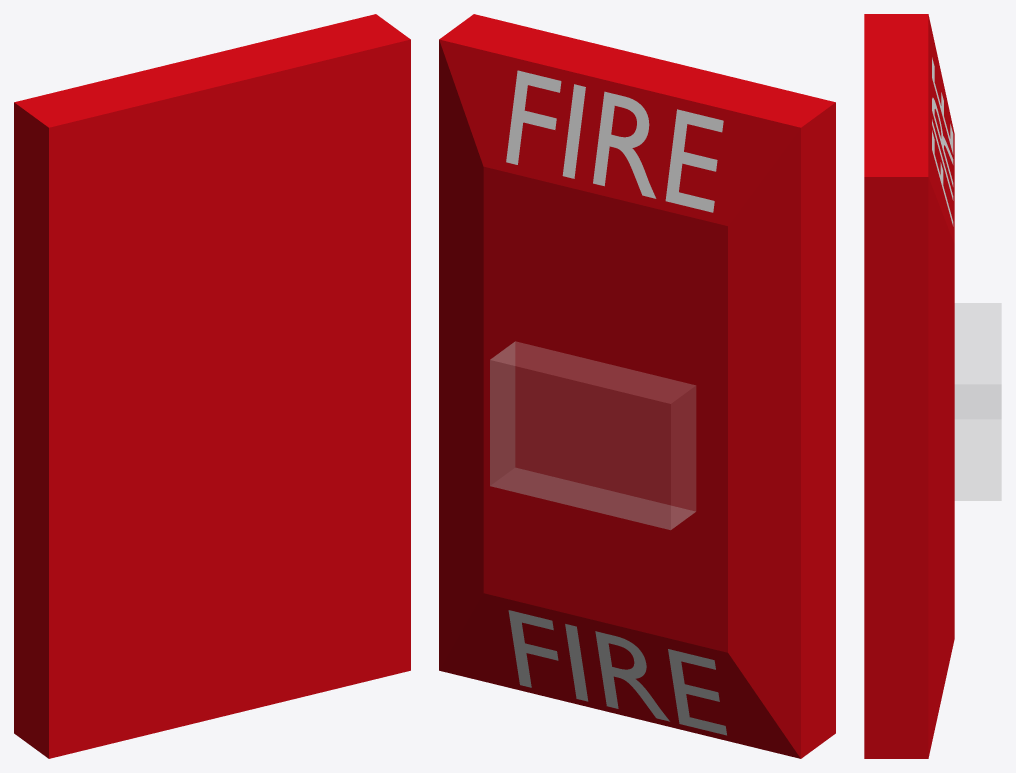
Rendered from Firealarm_Object.glb.
The picture shows the model from 3 angles, left to right: view 1: azimuth 30°, elevation 25°; view 2: azimuth 150°, elevation 25°; view 3: azimuth 270°, elevation 25°; orthographic projection. The views are drawn at different scales.
Parts seen in each view (by area): view 1: FireAlarm; view 2: FireAlarm, Cube, FireTop, FireBottom; view 3: FireAlarm, Cube, FireTop.
Boxes of the visible parts, bbox=[...] form: FireAlarm: bbox=[14, 14, 410, 758]; FireAlarm: bbox=[439, 14, 835, 758]; Cube: bbox=[490, 341, 695, 529]; FireTop: bbox=[506, 70, 723, 212]; FireBottom: bbox=[508, 610, 726, 735]; FireAlarm: bbox=[864, 14, 954, 758]; Cube: bbox=[955, 303, 1001, 500]; FireTop: bbox=[932, 57, 953, 226].
Size of the model in its own units: 0.06 by 0.1 by 0.0214.
